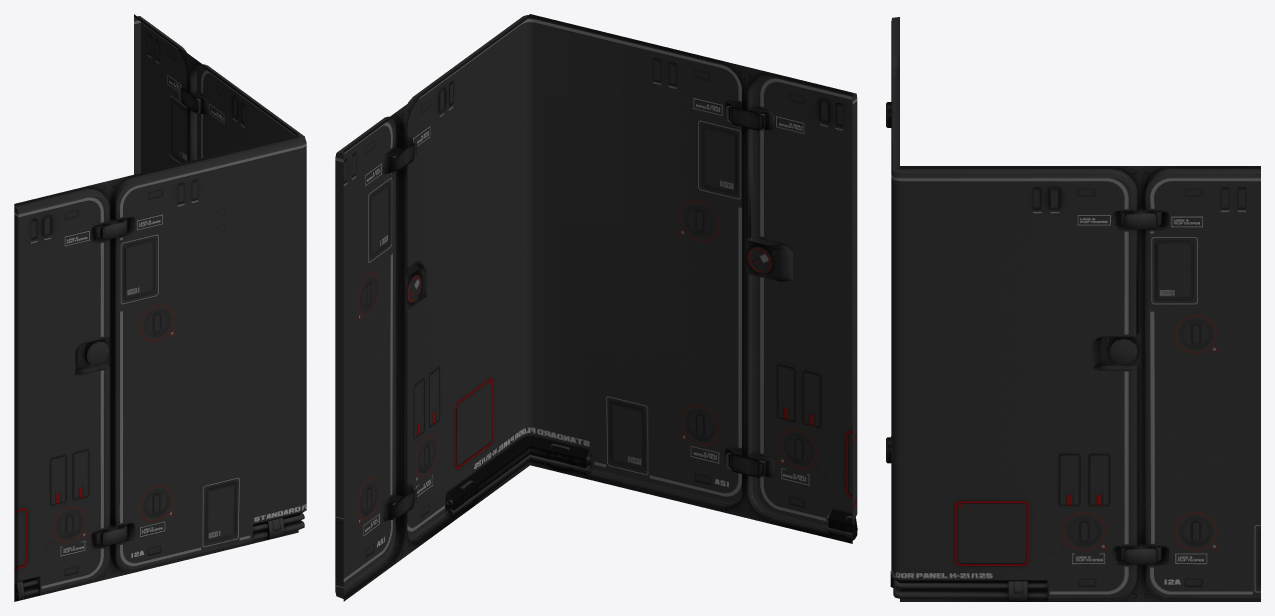
The model's file is Panel_A_2x2_2_Corner_In.FBX.
3 views of the same model, side by side, from view 1: azimuth 30°, elevation 25°; view 2: azimuth 150°, elevation 25°; view 3: azimuth 270°, elevation 25° (orthographic). The views are drawn at different scales.
Parts seen in each view (by area): view 1: Panel_A_2x2_2_Corner_In; view 2: Panel_A_2x2_2_Corner_In; view 3: Panel_A_2x2_2_Corner_In.
Part boxes in pixels (x1,y1,x2,y2): Panel_A_2x2_2_Corner_In: (14, 14, 306, 601); Panel_A_2x2_2_Corner_In: (335, 14, 857, 601); Panel_A_2x2_2_Corner_In: (886, 17, 1260, 601).
Bounding box in the file's own units: 155 × 200 × 156.
